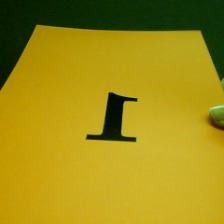orange1: (80, 87, 142, 151)
